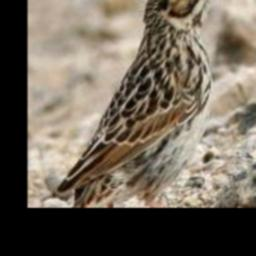Sparrow: (47, 0, 242, 204)
